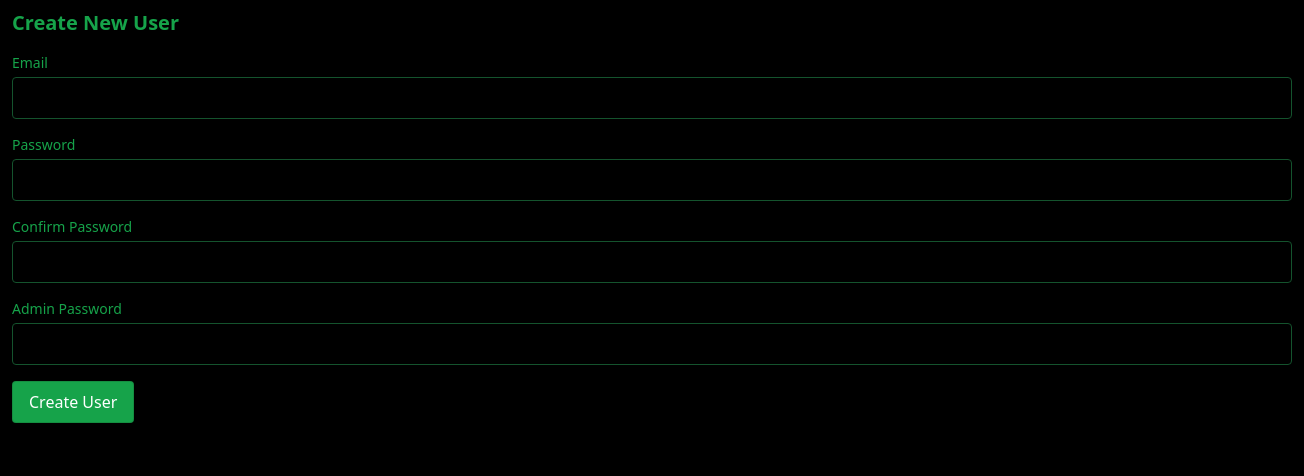
CreateUserForm.vue › shows an error if passwords do not match
Step 1. Type "test@example.com" into the field with id "email" → point(652, 98), box [12, 77, 1292, 119]
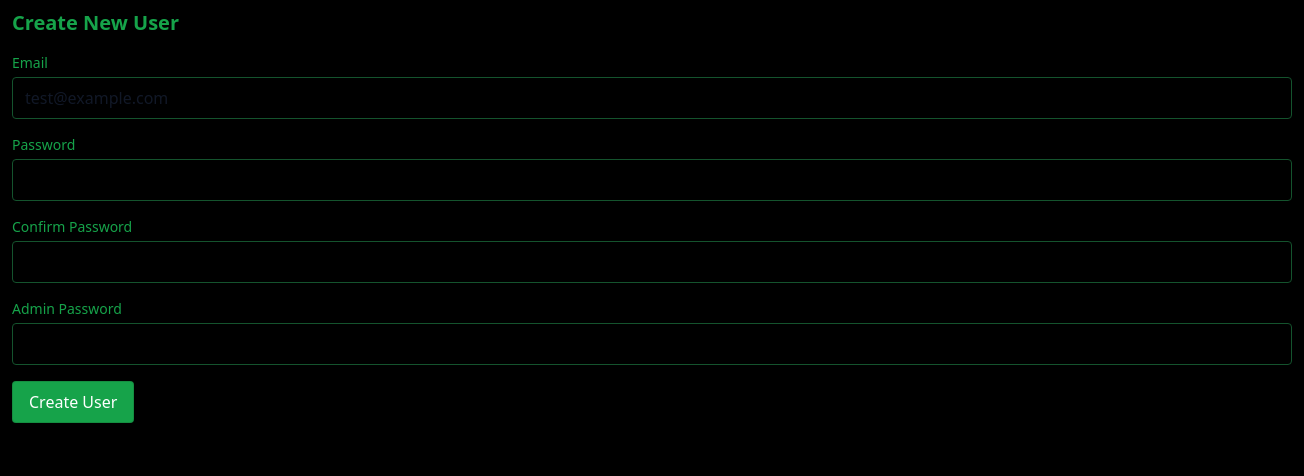
Step 2. Type "password" into the password field labelled "Password" → point(652, 180), box [12, 159, 1292, 201]
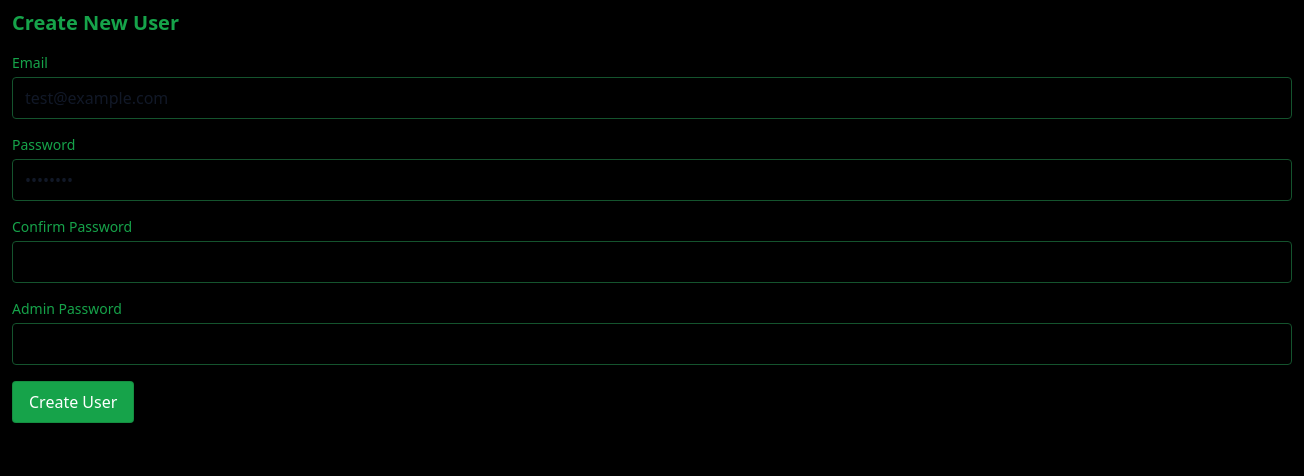
Step 3. Type "different-password" into the password field with id "confirmPasswordUser" → point(652, 262), box [12, 241, 1292, 283]
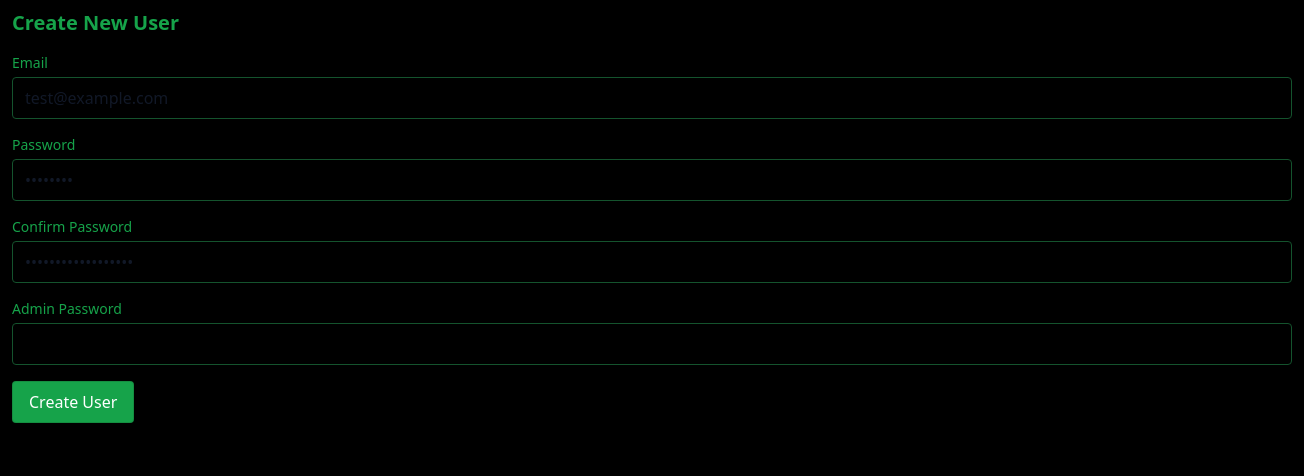
Step 4. Type "admin-password" into the password field with id "adminPassword" → point(652, 344), box [12, 323, 1292, 365]
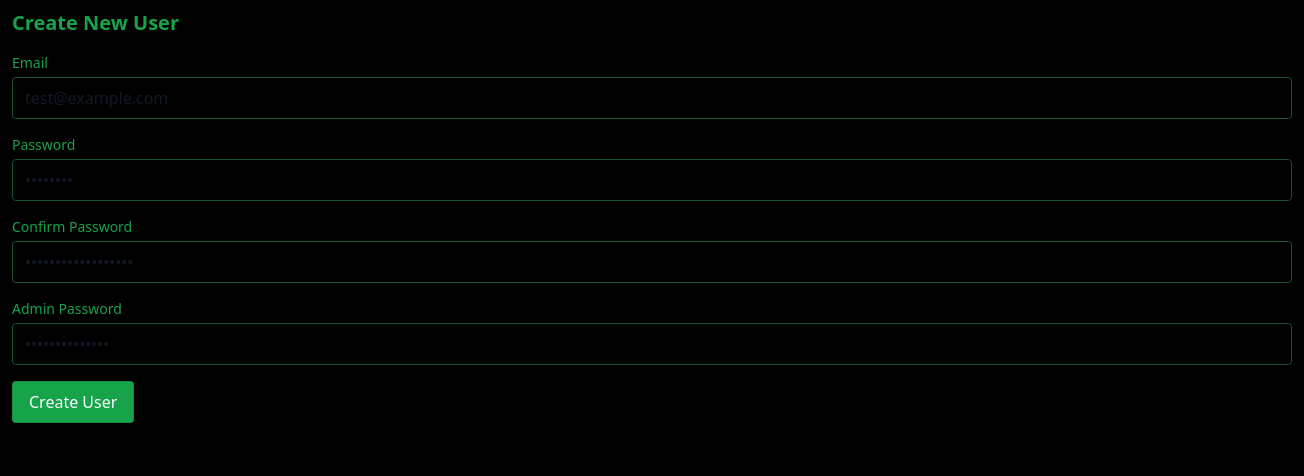
Step 5. Submit the form
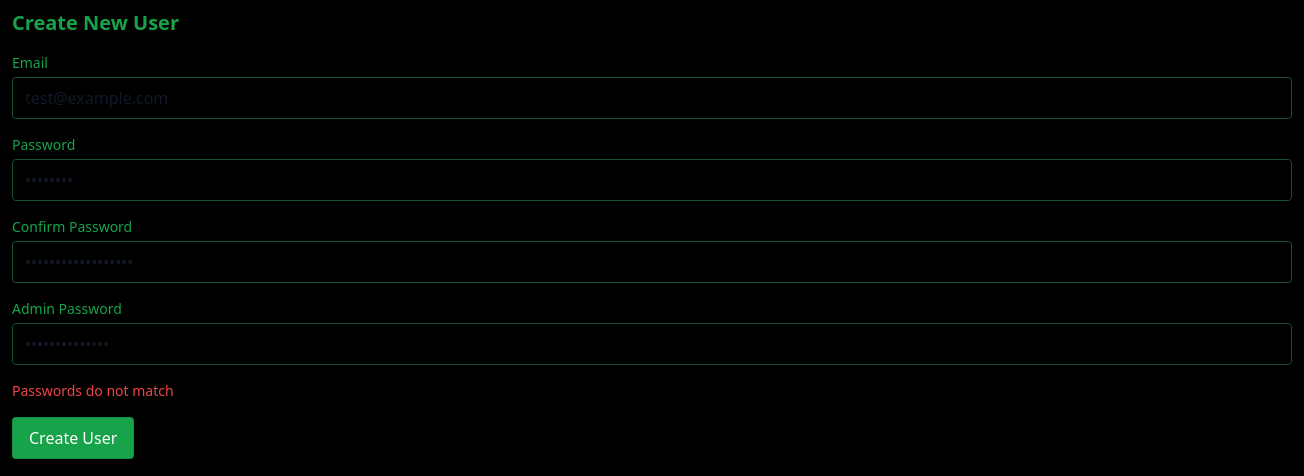
Expected: the text "Passwords do not match" is shown, [12, 381, 174, 400]
